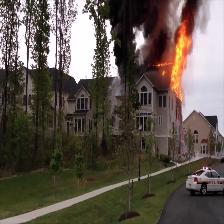fire: (169, 24, 192, 96)
smoke: (109, 1, 164, 64), (171, 0, 204, 21)
